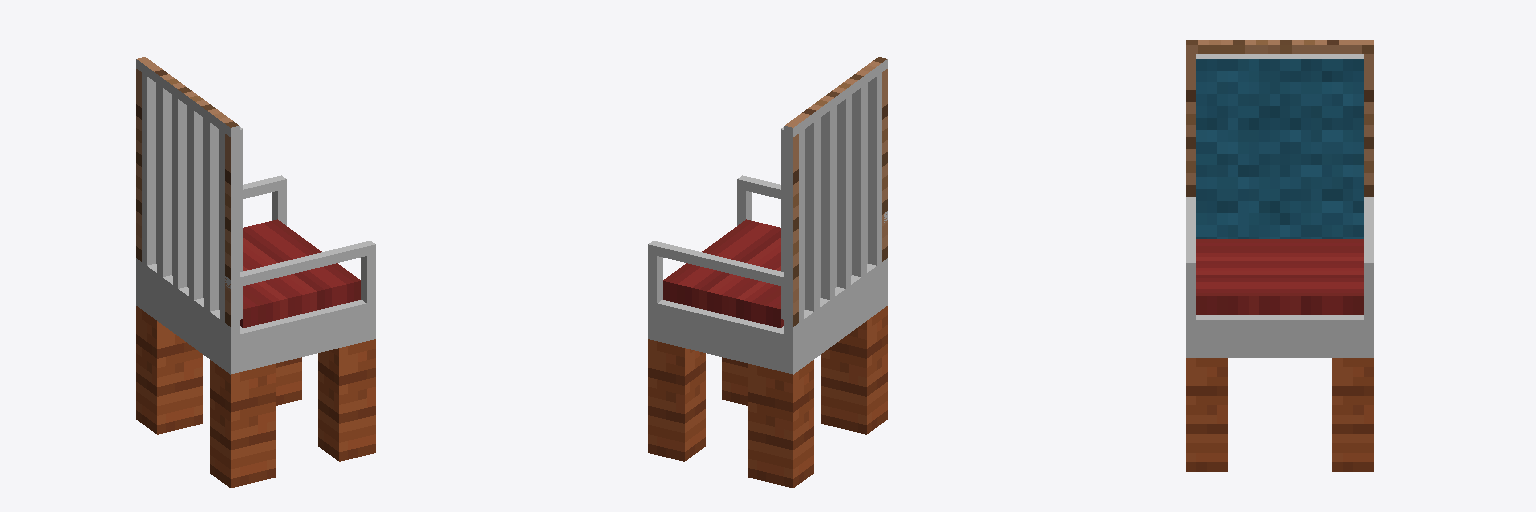
3 views of the same model, side by side, from view 1: azimuth 30°, elevation 25°; view 2: azimuth 150°, elevation 25°; view 3: azimuth 270°, elevation 25° (orthographic).
Parts seen in each view (by area): view 1: cube, PP, Dossier; view 2: cube, PP, Dossier; view 3: cube, PP, Dossier.
Boxes of the visible parts, box(x1,y1,x2,y2) form: cube: box(136, 69, 375, 487); PP: box(136, 268, 375, 374); Dossier: box(136, 57, 239, 336); cube: box(648, 69, 887, 487); PP: box(648, 268, 887, 374); Dossier: box(784, 57, 887, 336); cube: box(1186, 54, 1373, 471); PP: box(1186, 315, 1373, 357); Dossier: box(1186, 40, 1373, 53).
Bounding box in the file's own units: 1 × 2.38 × 1.12.
Materials: 7 (4 with a texture image).